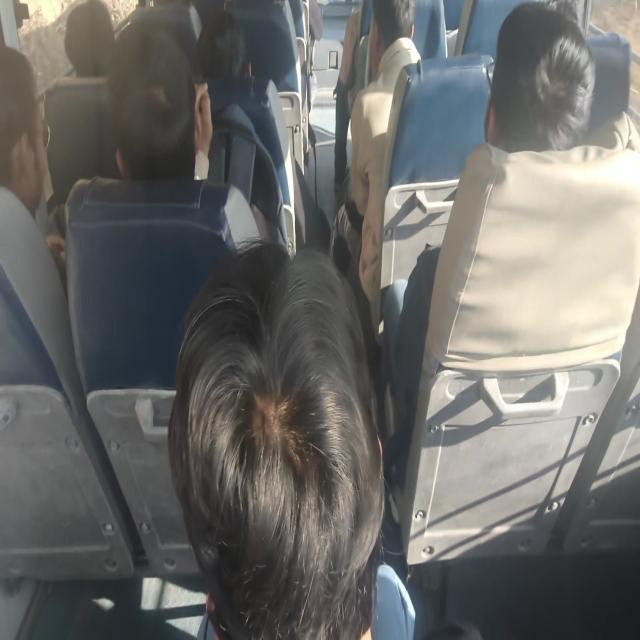person: (165, 273, 410, 640), (114, 37, 238, 231), (484, 45, 585, 170), (0, 73, 54, 232), (61, 0, 127, 87), (376, 0, 434, 78), (192, 8, 253, 76)
